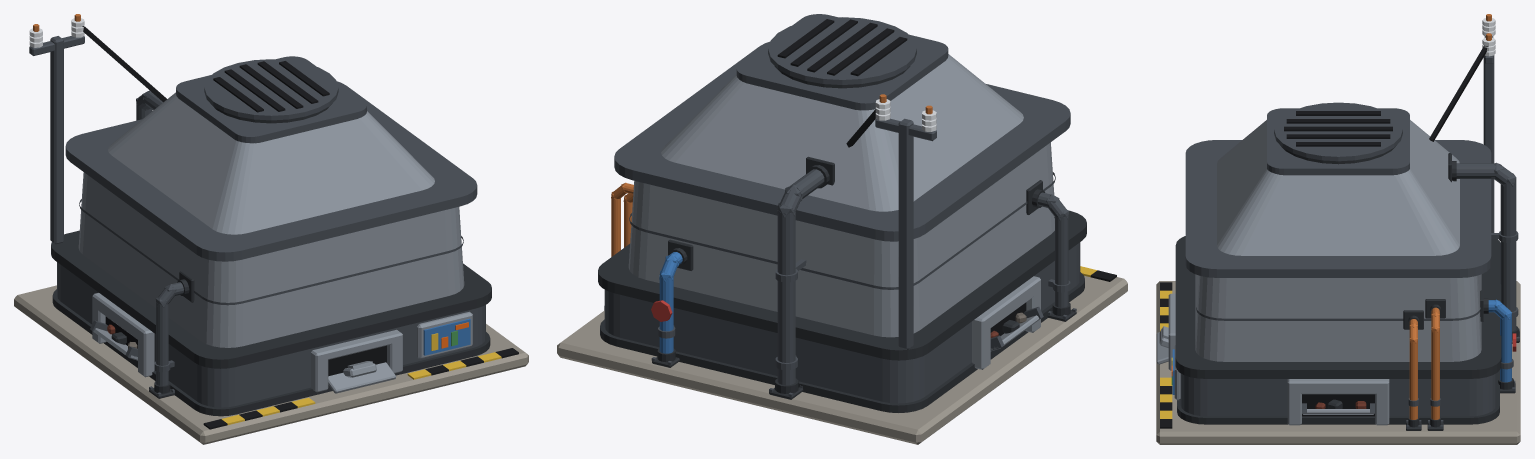
Rendered from fourneau_electrique_t2.glb.
3 renders of one model, left to right at view 1: azimuth 30°, elevation 25°; view 2: azimuth 150°, elevation 25°; view 3: azimuth 270°, elevation 25°, orthographic. The views are drawn at different scales.
Parts seen in each view (by area): view 1: corps.004, pyramide.002, palier.002, dalle.004, socle_bandeau.002, socle.002, pieces_acier_sombre.004, grille_bord.002, pieces_acier.002, pyramide_rebord.002, pieces_noir.004, socle_plinthe.002 (+7 smaller); view 2: corps.004, pyramide.002, palier.002, dalle.004, socle.002, socle_bandeau.002, pieces_acier_sombre.004, grille_bord.002, pyramide_rebord.002, socle_plinthe.002, pieces_noir.004, pieces_acier.002 (+4 smaller); view 3: pyramide.002, corps.004, palier.002, dalle.004, socle_bandeau.002, socle.002, pieces_acier_sombre.004, pieces_noir.004, grille_bord.002, pyramide_rebord.002, pieces_acier.002, socle_plinthe.002 (+5 smaller).
Boxes of the visible parts, x1,y1,x2,y2 form: corps.004: (78,172,464,347); pyramide.002: (108,92,434,234); palier.002: (65,81,477,261); dalle.004: (14,285,528,444); socle_bandeau.002: (51,230,491,368); socle.002: (57,262,485,407); pieces_acier_sombre.004: (29,36,183,396); grille_bord.002: (204,59,338,120); pieces_acier.002: (92,293,402,392); pyramide_rebord.002: (176,56,366,143); pieces_noir.004: (82,26,518,429); socle_plinthe.002: (52,289,490,416); corps.004: (628,142,1054,337); pyramide.002: (661,54,1023,211); palier.002: (614,41,1070,241); dalle.004: (557,276,1127,444); socle.002: (604,242,1080,403); socle_bandeau.002: (598,210,1086,360); pieces_acier_sombre.004: (604,118,1076,396); grille_bord.002: (768,17,916,84); pyramide_rebord.002: (736,14,948,110); socle_plinthe.002: (600,272,1084,412); pieces_noir.004: (777,19,1116,335); pieces_acier.002: (972,276,1040,369); pyramide.002: (1217,120,1459,255); corps.004: (1195,274,1481,361); palier.002: (1185,140,1491,277); dalle.004: (1156,281,1520,444); socle_bandeau.002: (1175,236,1501,378); socle.002: (1180,373,1496,416); pieces_acier_sombre.004: (1302,36,1519,428); pieces_noir.004: (1160,45,1488,428); grille_bord.002: (1274,102,1402,161); pyramide_rebord.002: (1267,108,1409,175); pieces_acier.002: (1168,293,1389,425); socle_plinthe.002: (1177,370,1499,424).
Bounding box in the file's own units: 1.5 × 1.28 × 1.5.
